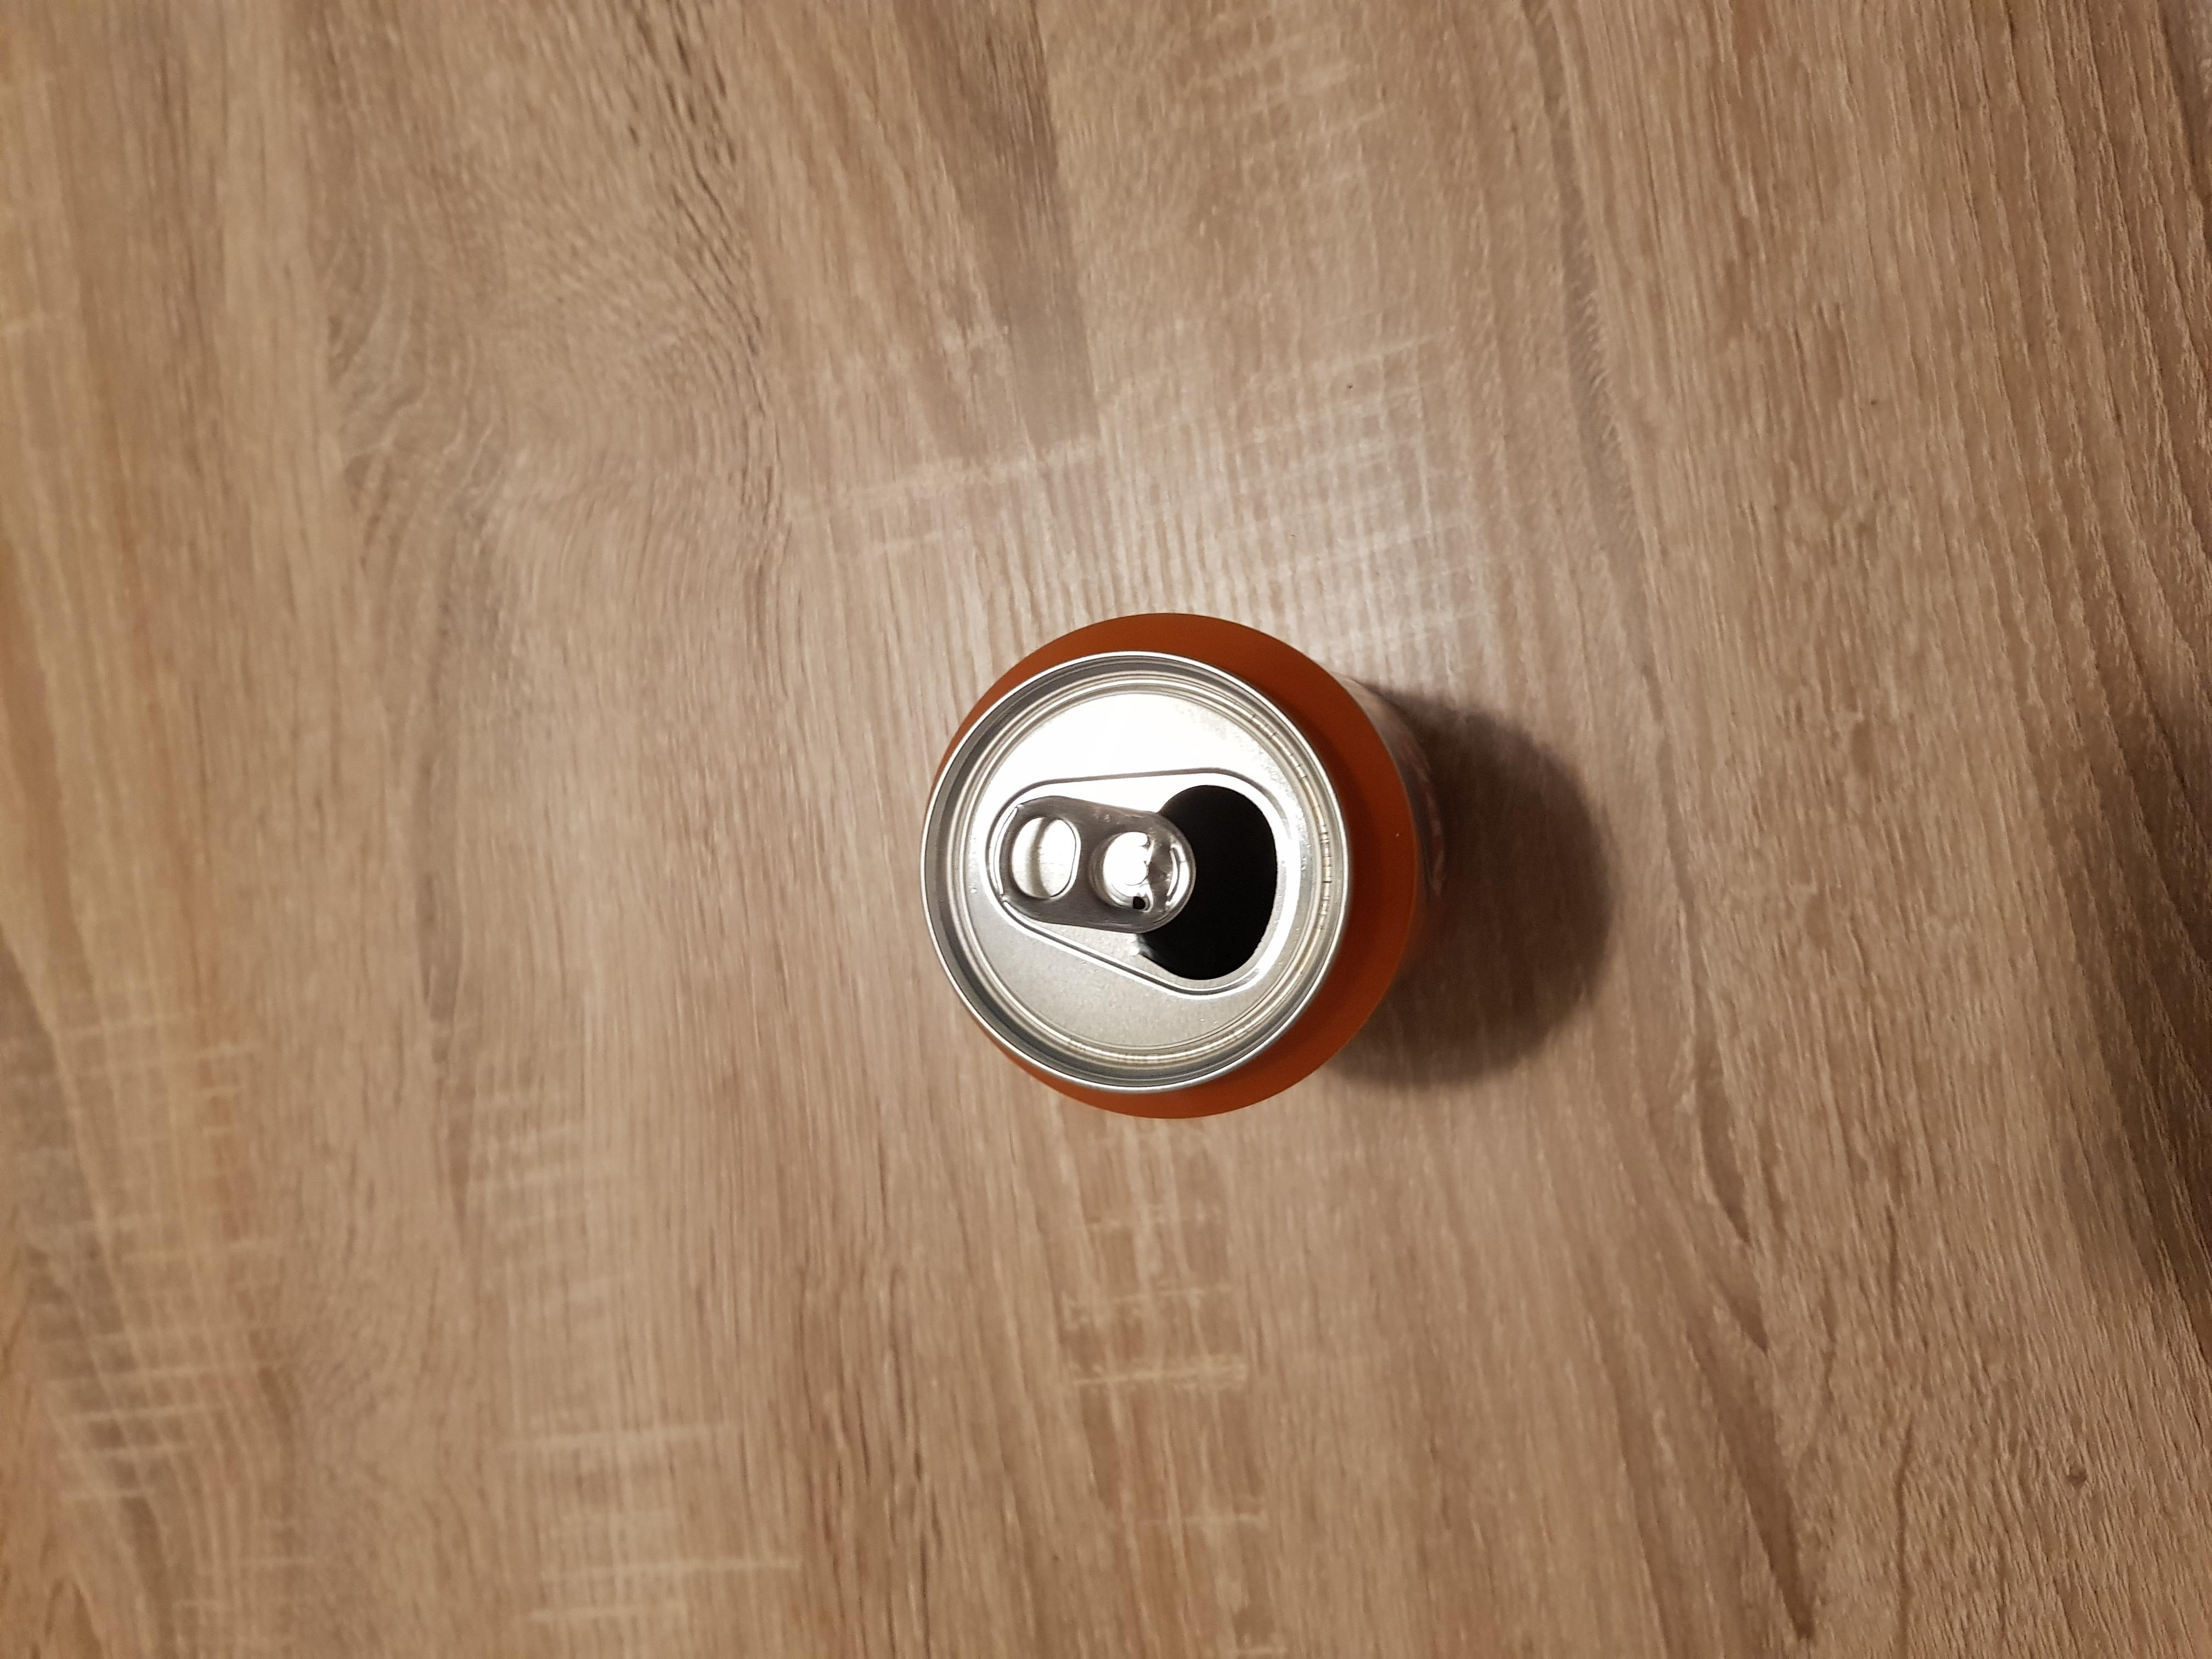can: (909, 599, 1454, 1115)
